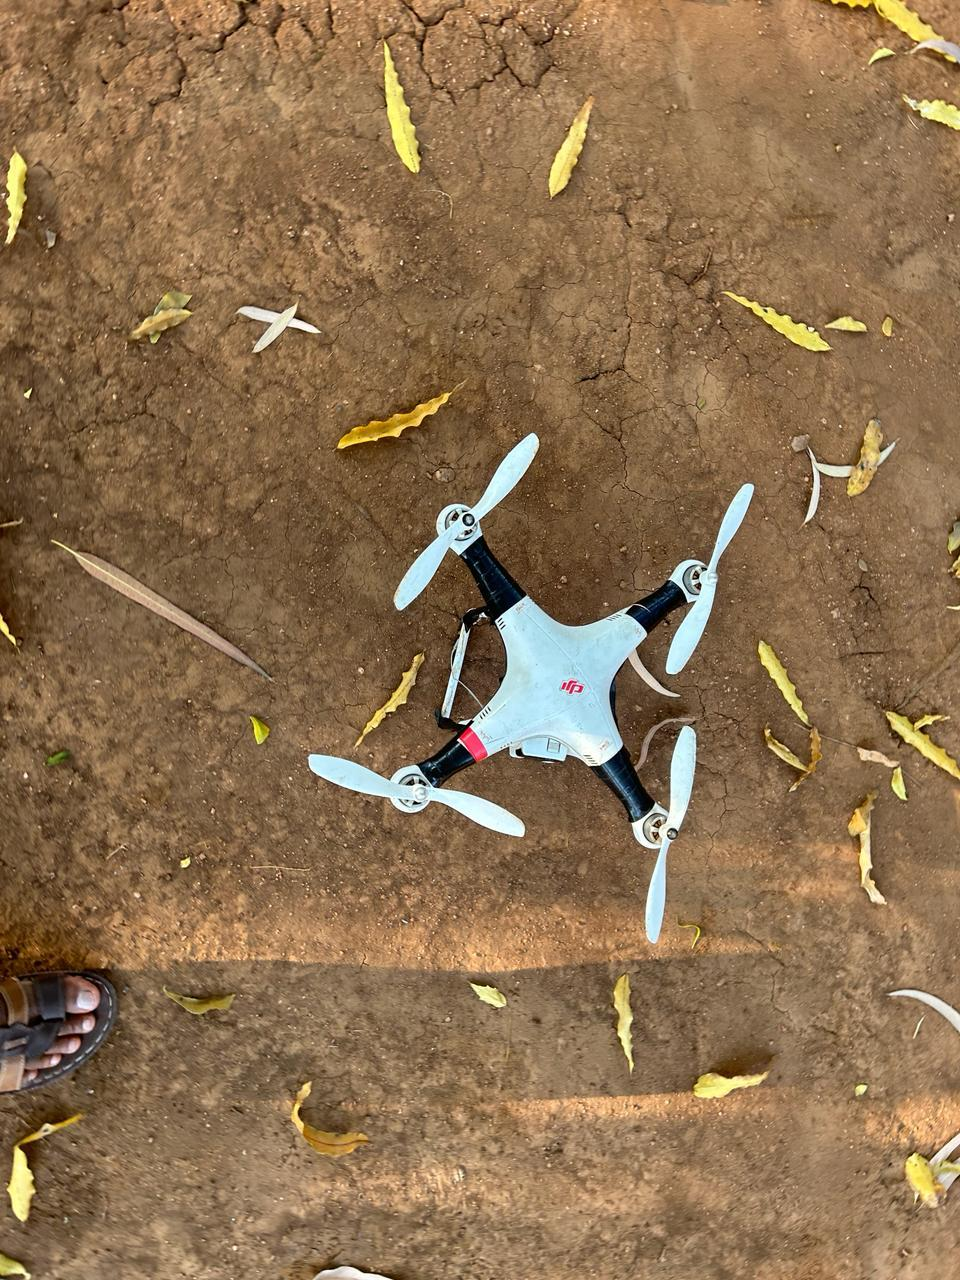drone: (274, 290, 810, 1090)
